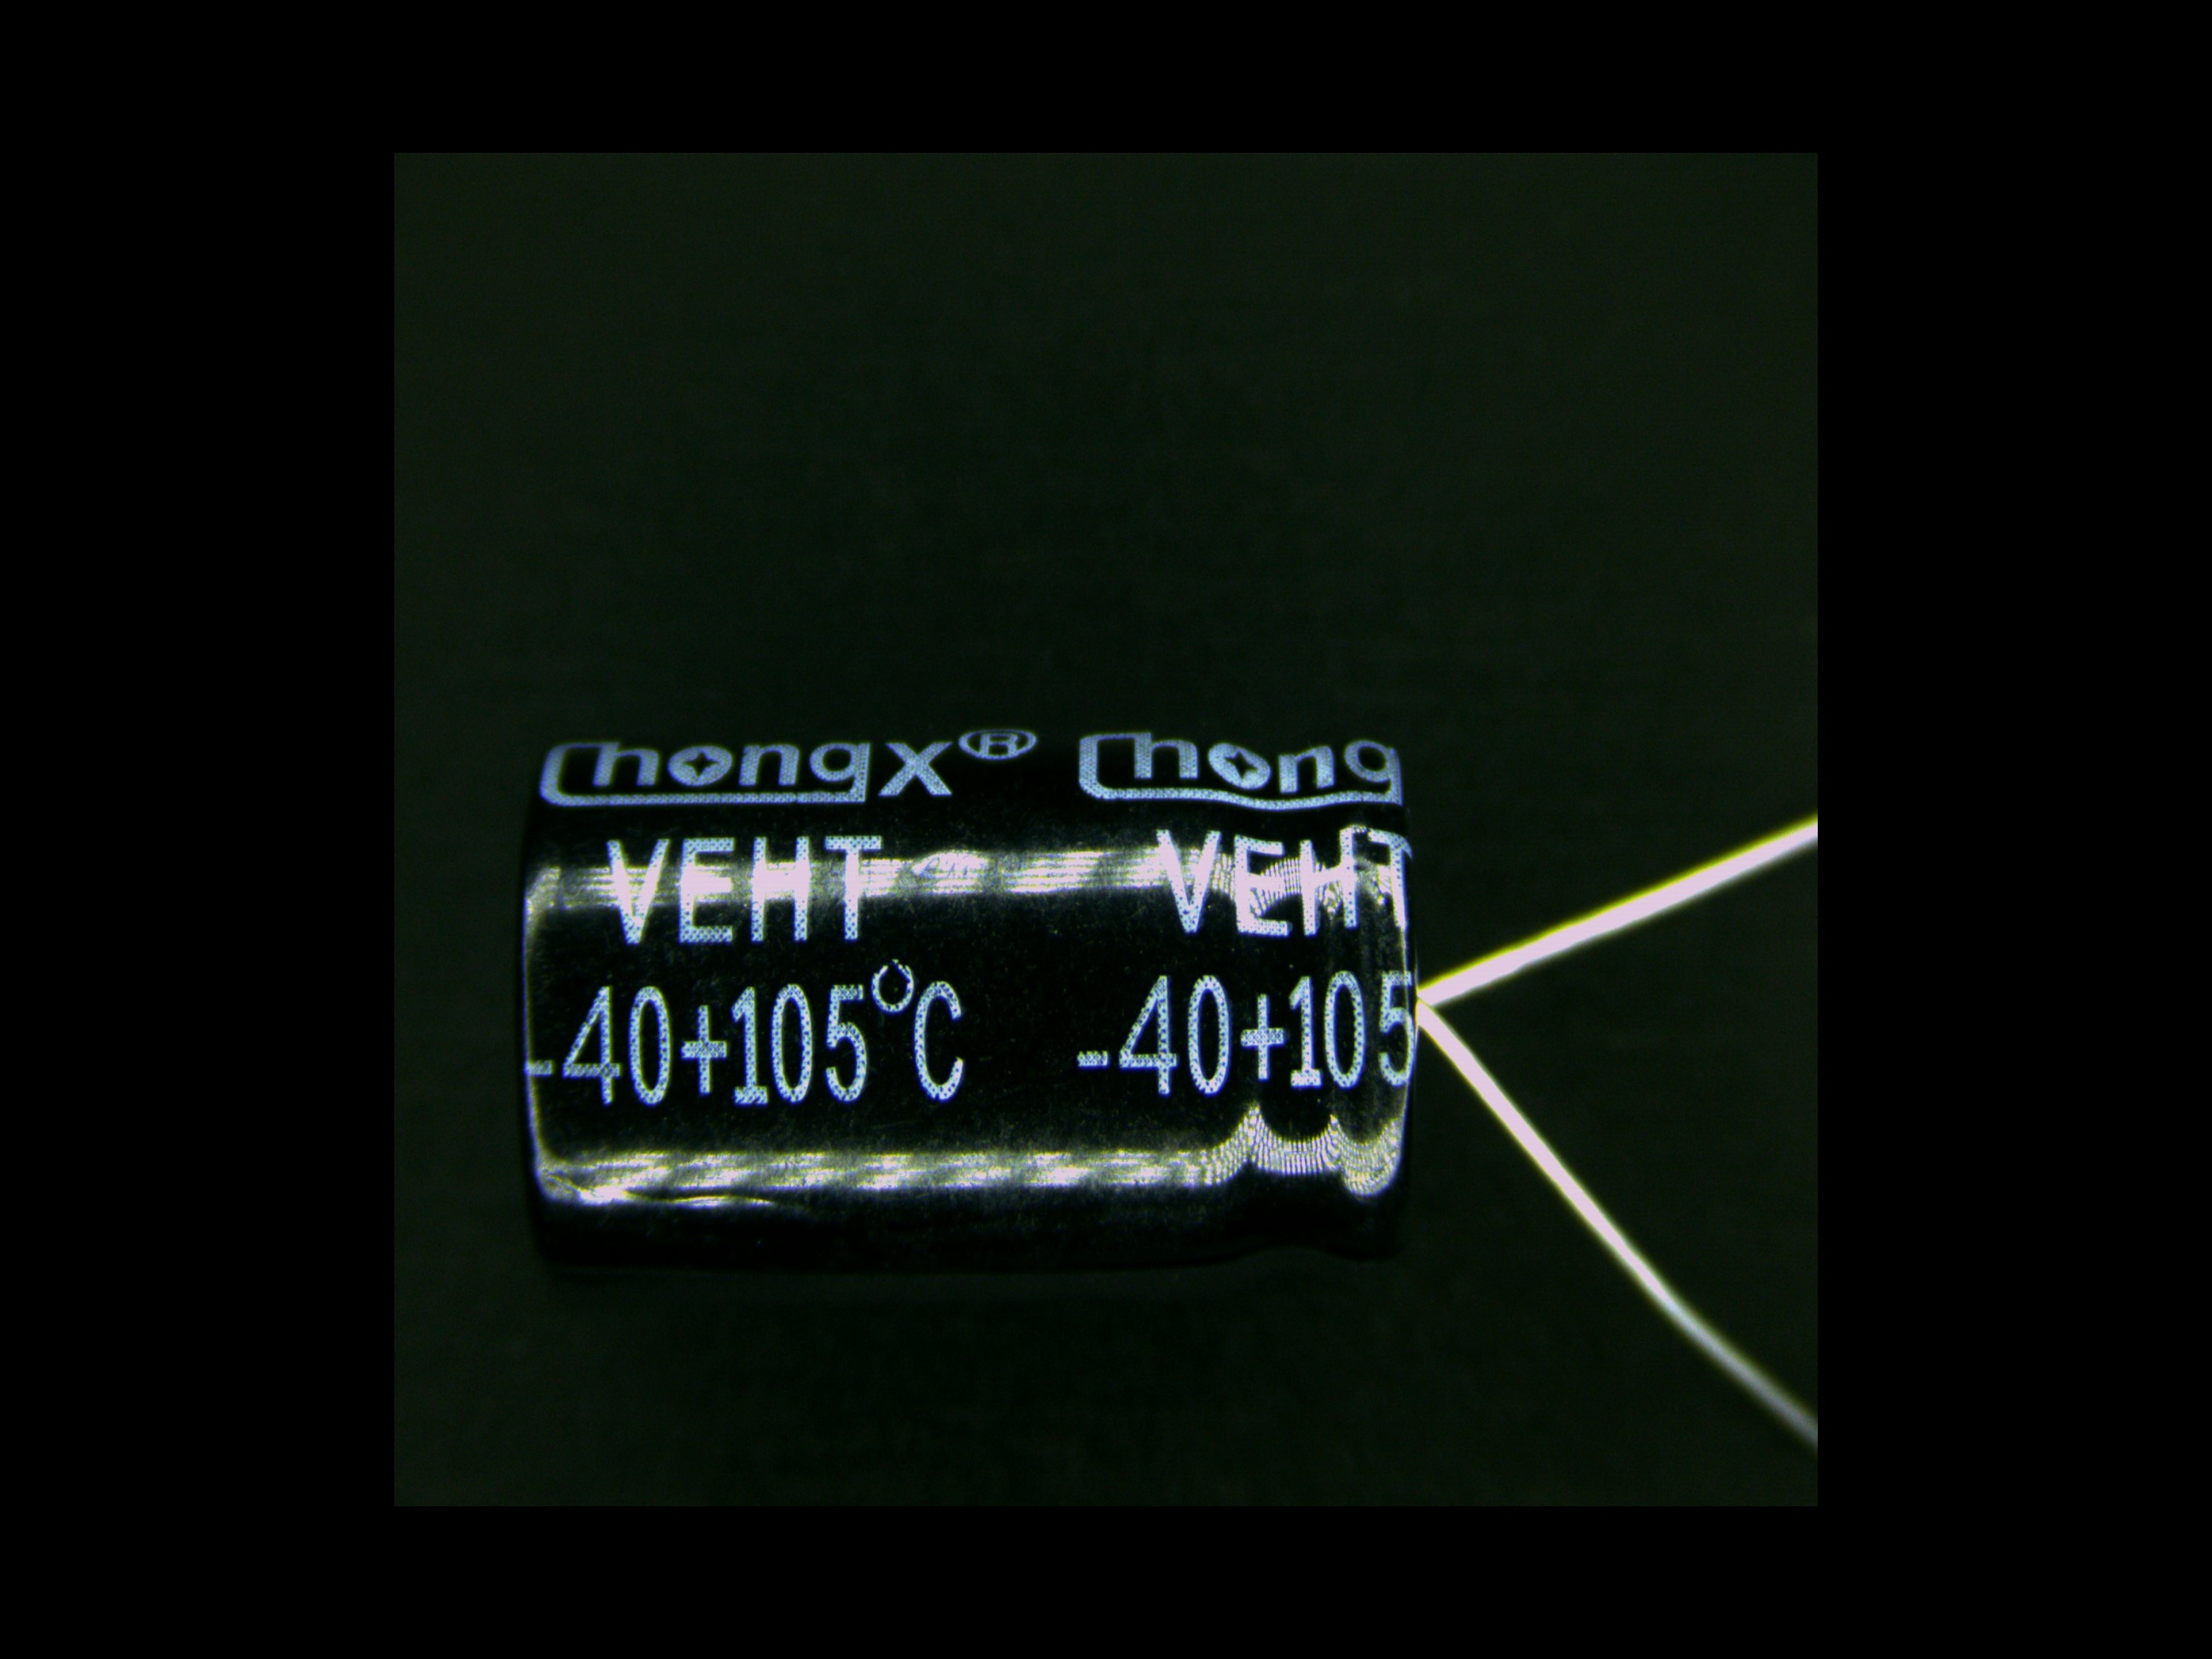c3: (512, 730, 1609, 1263)
